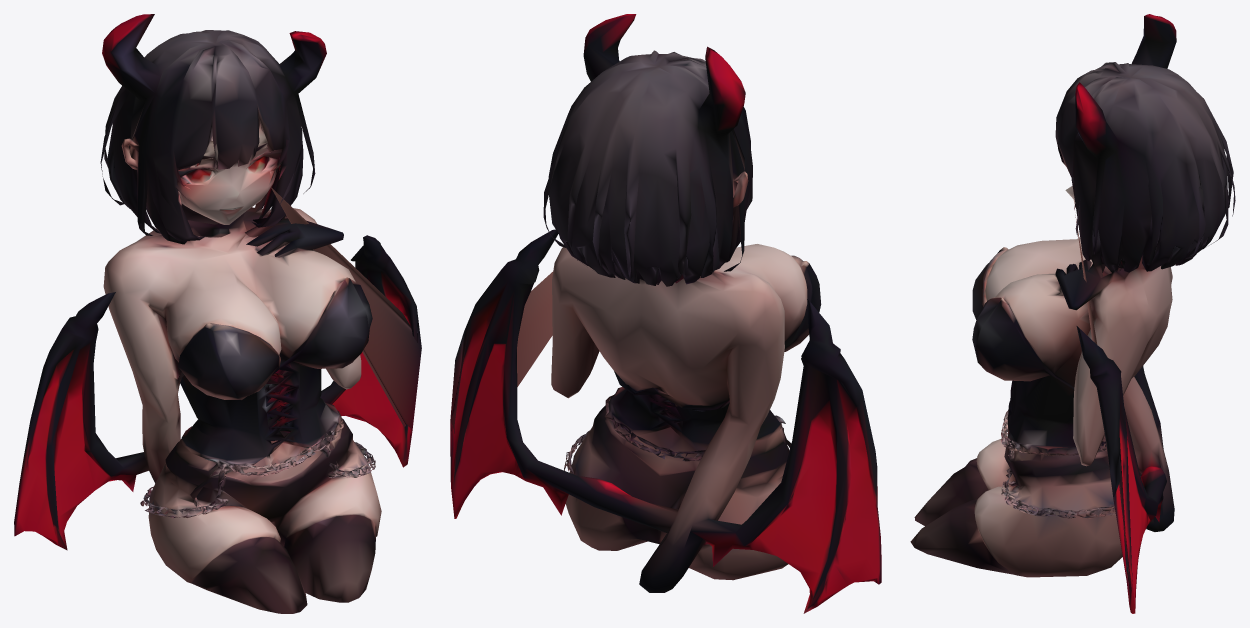
The picture shows the model from 3 angles, left to right: view 1: azimuth 30°, elevation 25°; view 2: azimuth 150°, elevation 25°; view 3: azimuth 270°, elevation 25°; orthographic projection. The views are drawn at different scales.
Visible parts, largest first — view 1: node_0; view 2: node_0; view 3: node_0.
Part boxes in pixels (x1,y1,x2,y2): node_0: [14, 14, 421, 613]; node_0: [450, 14, 881, 613]; node_0: [910, 14, 1235, 613].
Bounding box in the file's own units: 0.7776 × 0.9536 × 0.5693.
